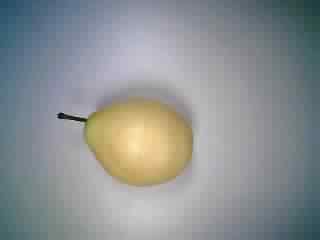pear: (46, 80, 204, 196)
